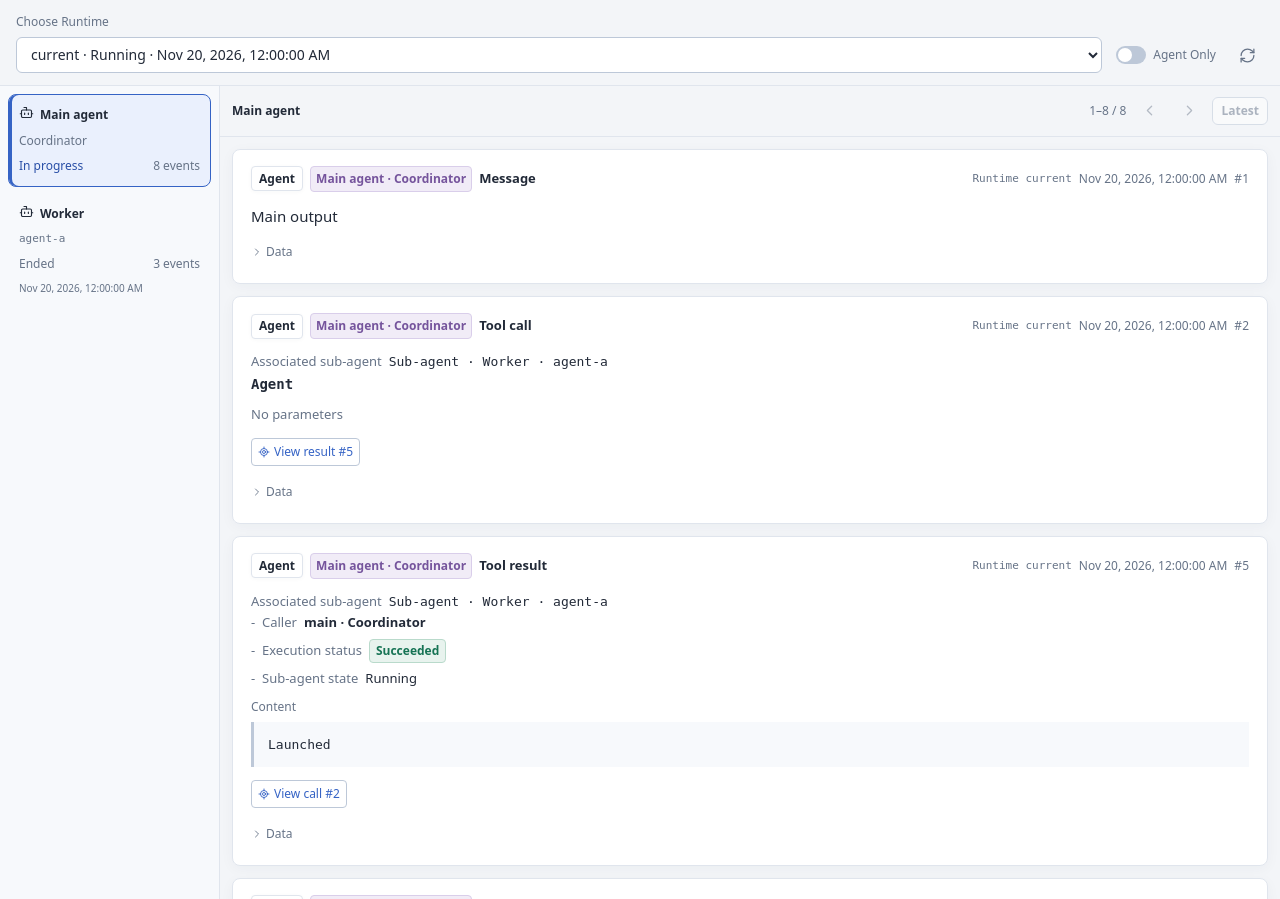
Agent Only filters messages without hiding agents or changing their lifecycle state
Expected: the text "Main output" is shown, [251,206,338,226]
Click the switch labelled "Agent Only" at x=1166, y=55, box [1110,37,1222,73]
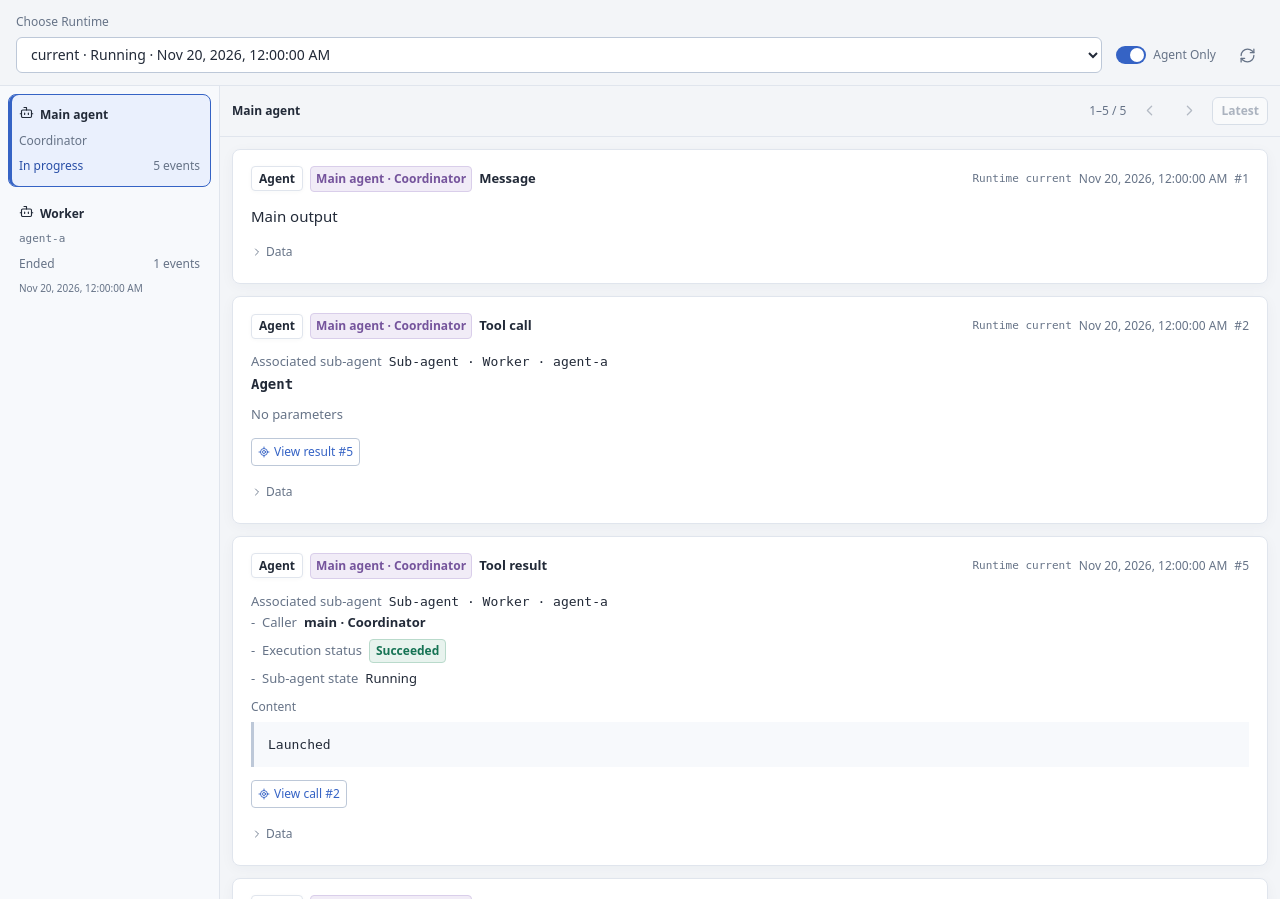
Expected: the switch labelled "Agent Only" is checked, [1110,37,1222,73]
Click the button "Worker agent-a Ended 1 events Nov 20, 2026, 12:00:00 AM" at x=110, y=250, box [8,193,211,307]
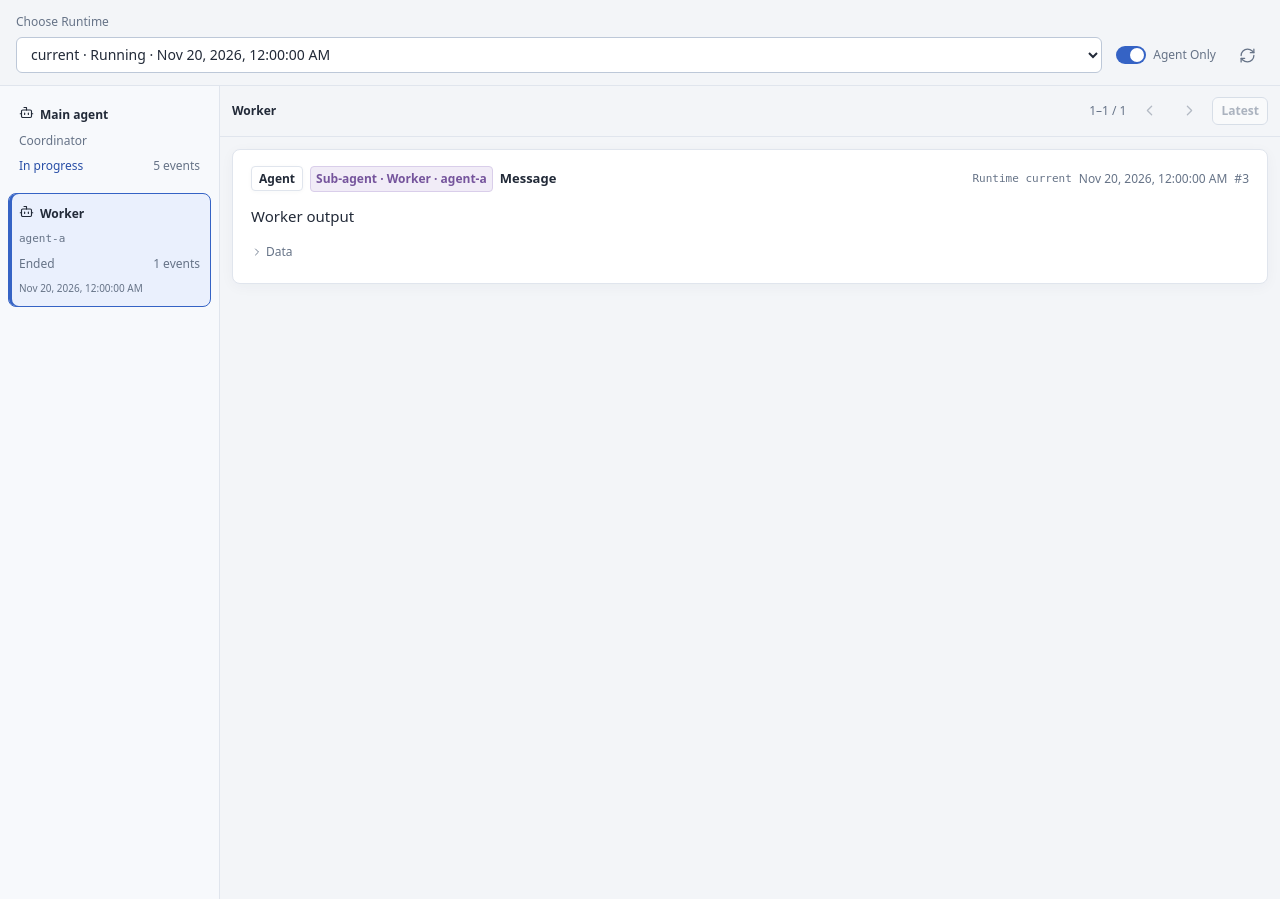
Expected: the button "Worker agent-a Ended 1 events Nov 20, 2026, 12:00:00 AM" is shown, [8,193,211,307]
Expected: the text "Worker output" is shown, [251,206,354,226]
Expected: the number of elements with class "event-row" is 1, [232,149,1268,284]
Click the switch labelled "Agent Only" at x=1166, y=55, box [1110,37,1222,73]
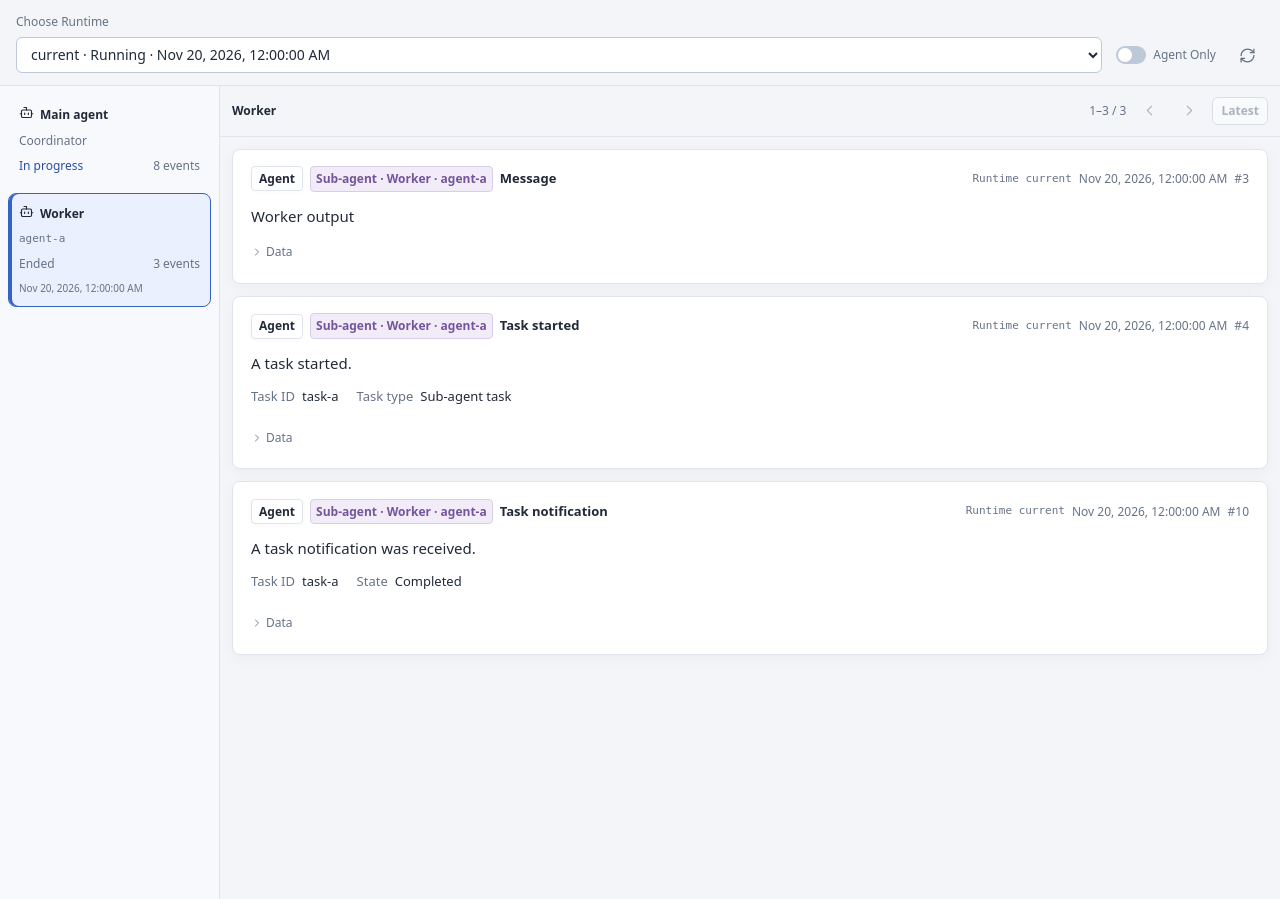
Expected: the button "Worker agent-a Ended 3 events Nov 20, 2026, 12:00:00 AM" is shown, [8,193,211,307]
Expected: the number of elements with class "event-row" is 3, [232,149,1268,284]; [232,296,1268,470]; [232,482,1268,655]
